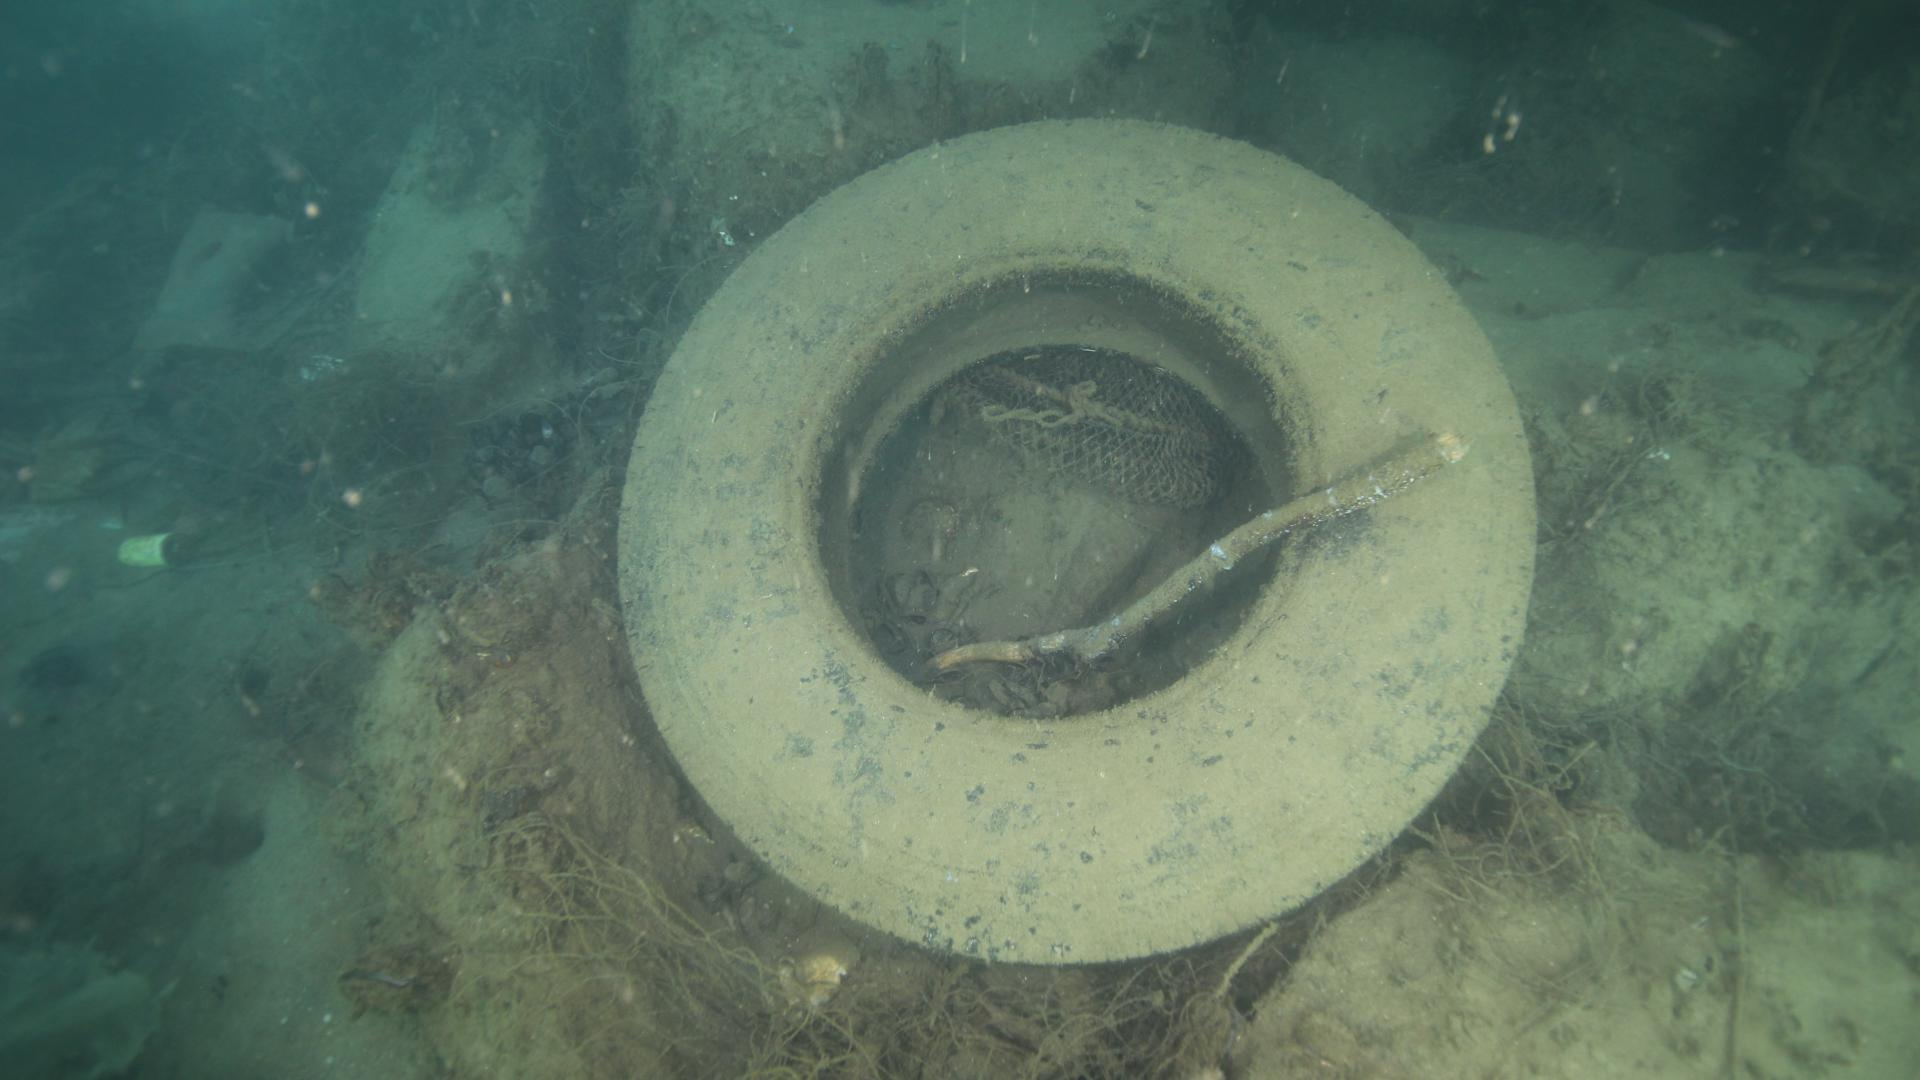tire: (609, 108, 1538, 967)
